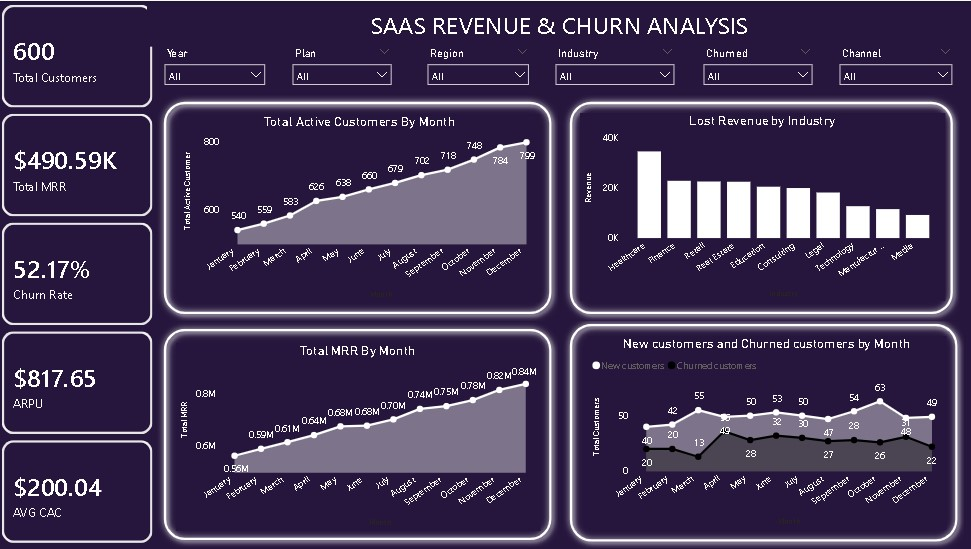

The page's visual inventory and layout, read from the dashboard file:
{"tool":"powerbi","page":{"name":"OVERVIEW","canvas":[1280,720],"ordinal":0},"visuals":[{"type":"cardVisual","fields":{"Data":["subscriptions.Total Customers","subscriptions.Total MRR","subscriptions.Churn Rate","subscriptions.ARPU","subscriptions.AVG CAC"]},"box":[0,0,208.7,720.2],"z":0},{"type":"shape","box":[208.7,123.1,527.2,296.8],"z":0,"group":"g5"},{"type":"shape","box":[742,123.1,521.2,296.8],"z":0,"group":"g4"},{"type":"shape","box":[208.7,422.2,527.2,295.6],"z":0,"group":"g6"},{"type":"lineChart","title":"Total Active Customers By Month","fields":{"Category":["monthly_revenue.month.Variation.Date Hierarchy.Month"],"Y":["Sum(monthly_revenue.total_active_customers)"]},"box":[237.7,148.4,475.3,247.3],"z":1000,"group":"g5"},{"type":"shape","box":[742,415,527.2,304],"z":1000,"group":"g2"},{"type":"group","id":"g1","title":"Group 1","box":[208.7,422.2,527.2,295.6],"z":1000},{"type":"shape","box":[195.4,0,1084.6,60.3],"z":2000},{"type":"lineChart","title":"Total MRR By Month","fields":{"Category":["monthly_revenue.month.Variation.Date Hierarchy.Month"],"Y":["Sum(monthly_revenue.total_mrr)"]},"box":[233.6,450.2,478.5,246.5],"z":2000,"group":"g6"},{"type":"group","id":"g2","title":"Group 2","box":[742,415,527.2,304],"z":3000},{"type":"group","id":"g3","title":"Group 4","box":[208.7,55.5,1054.4,67.6],"z":4000},{"type":"group","id":"g4","title":"Group 5","box":[742,123.1,521.2,296.8],"z":5000},{"type":"lineChart","fields":{"Y":["Sum(monthly_revenue.new_customers)","Sum(monthly_revenue.churned_customers)"],"Category":["monthly_revenue.month.Variation.Date Hierarchy.Month"]},"box":[774.6,440.3,470.5,254.6],"z":5000,"group":"g2"},{"type":"group","id":"g5","title":"Group 6","box":[208.7,123.1,527.2,296.8],"z":6000},{"type":"slicer","fields":{"Values":["subscriptions.plan"]},"box":[376.9,55.5,149.8,67.6],"z":7000,"group":"g3"},{"type":"slicer","fields":{"Values":["subscriptions.region"]},"box":[554.9,55.5,153.4,67.6],"z":8000,"group":"g3"},{"type":"slicer","fields":{"Values":["subscriptions.industry"]},"box":[721.8,55.5,175.5,67.6],"z":9000,"group":"g3"},{"type":"slicer","fields":{"Values":["subscriptions.churned"]},"box":[917,55.5,163.3,67.6],"z":10000,"group":"g3"},{"type":"slicer","fields":{"Values":["subscriptions.acquisition_channel"]},"box":[1095,55.5,168.2,67.6],"z":11000,"group":"g3"},{"type":"slicer","fields":{"Values":["monthly_revenue.month.Variation.Date Hierarchy.Year"]},"box":[208.7,55.5,152.2,67.6],"z":12000,"group":"g3"},{"type":"clusteredColumnChart","title":"Lost Revenue by Industry","fields":{"Category":["subscriptions.industry"],"Y":["Sum(subscriptions.monthly_revenue)"]},"box":[764.9,147.2,480.2,247.3],"z":13000,"group":"g4"},{"type":"group","id":"g6","title":"Group 3","box":[208.7,422.2,527.2,295.6],"z":14002,"group":"g1"}]}

Visuals, with their boxes in screenshot pixels (x1, y1, x2, y2), scaled from the page's 1280x720 canvas onto the 971x549 screenshot:
cardVisual - subscriptions.Total Customers x subscriptions.Total MRR: box(0, 0, 158, 548)
shape: box(158, 94, 558, 320)
shape: box(563, 94, 958, 320)
shape: box(158, 322, 558, 547)
"Total Active Customers By Month" lineChart: box(180, 113, 541, 302)
shape: box(563, 316, 963, 548)
"Group 1" group: box(158, 322, 558, 547)
shape: box(148, 0, 970, 46)
"Total MRR By Month" lineChart: box(177, 343, 540, 531)
"Group 2" group: box(563, 316, 963, 548)
"Group 4" group: box(158, 42, 958, 94)
"Group 5" group: box(563, 94, 958, 320)
lineChart - Sum(monthly_revenue.new_customers) x Sum(monthly_revenue.churned_customers): box(588, 336, 945, 530)
"Group 6" group: box(158, 94, 558, 320)
slicer - subscriptions.plan: box(286, 42, 400, 94)
slicer - subscriptions.region: box(421, 42, 537, 94)
slicer - subscriptions.industry: box(548, 42, 681, 94)
slicer - subscriptions.churned: box(696, 42, 820, 94)
slicer - subscriptions.acquisition_channel: box(831, 42, 958, 94)
slicer - monthly_revenue.month.Variation.Date Hierarchy.Year: box(158, 42, 274, 94)
"Lost Revenue by Industry" clusteredColumnChart: box(580, 112, 945, 301)
"Group 3" group: box(158, 322, 558, 547)
